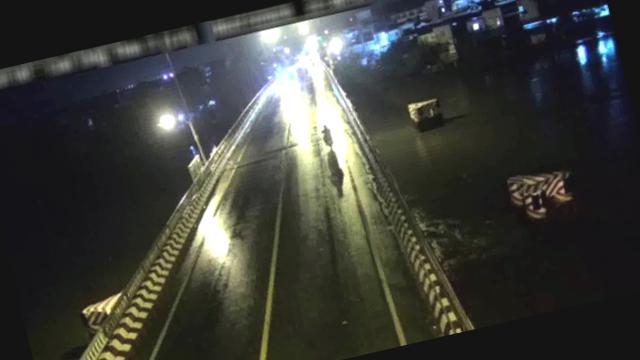Bike: (319, 122, 336, 152)
